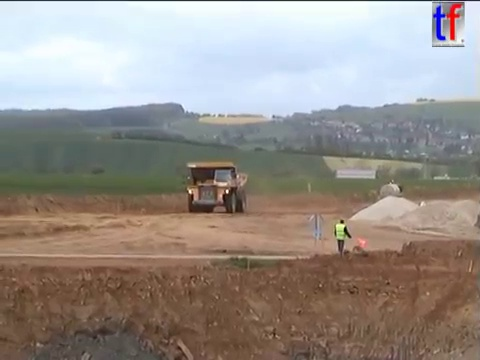truck: (181, 160, 249, 215), (377, 181, 403, 205)
worker: (331, 217, 352, 256)
